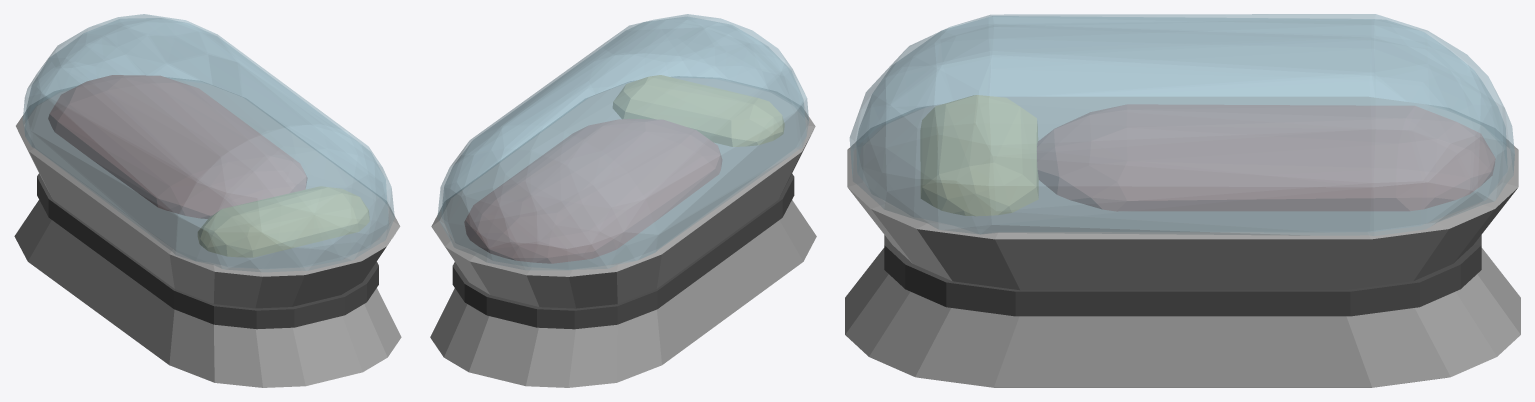
The model's file is wakeupAnimation.fbx.
3 views of the same model, side by side, from view 1: azimuth 30°, elevation 25°; view 2: azimuth 150°, elevation 25°; view 3: azimuth 270°, elevation 25° (orthographic). The views are drawn at different scales.
Visible parts, largest first — view 1: Sphere, Cube, Sphere.001, Sphere.002, Cube.001; view 2: Sphere, Cube, Sphere.001, Sphere.002, Cube.001; view 3: Sphere, Cube, Sphere.001, Cube.001, Sphere.002.
Boxes of the visible parts, bbox=[...] form: Sphere: bbox=[22, 14, 394, 271]; Cube: bbox=[14, 78, 401, 387]; Sphere.001: bbox=[48, 75, 307, 218]; Sphere.002: bbox=[197, 186, 369, 257]; Cube.001: bbox=[37, 173, 378, 329]; Sphere: bbox=[437, 14, 808, 269]; Cube: bbox=[430, 76, 816, 387]; Sphere.001: bbox=[464, 118, 722, 263]; Sphere.002: bbox=[612, 75, 784, 146]; Cube.001: bbox=[452, 173, 794, 329]; Sphere: bbox=[849, 14, 1514, 235]; Cube: bbox=[845, 96, 1520, 387]; Sphere.001: bbox=[1037, 104, 1495, 211]; Cube.001: bbox=[884, 235, 1481, 316]; Sphere.002: bbox=[920, 95, 1038, 216].
Size of the model in its own units: 199 by 185 by 399.
